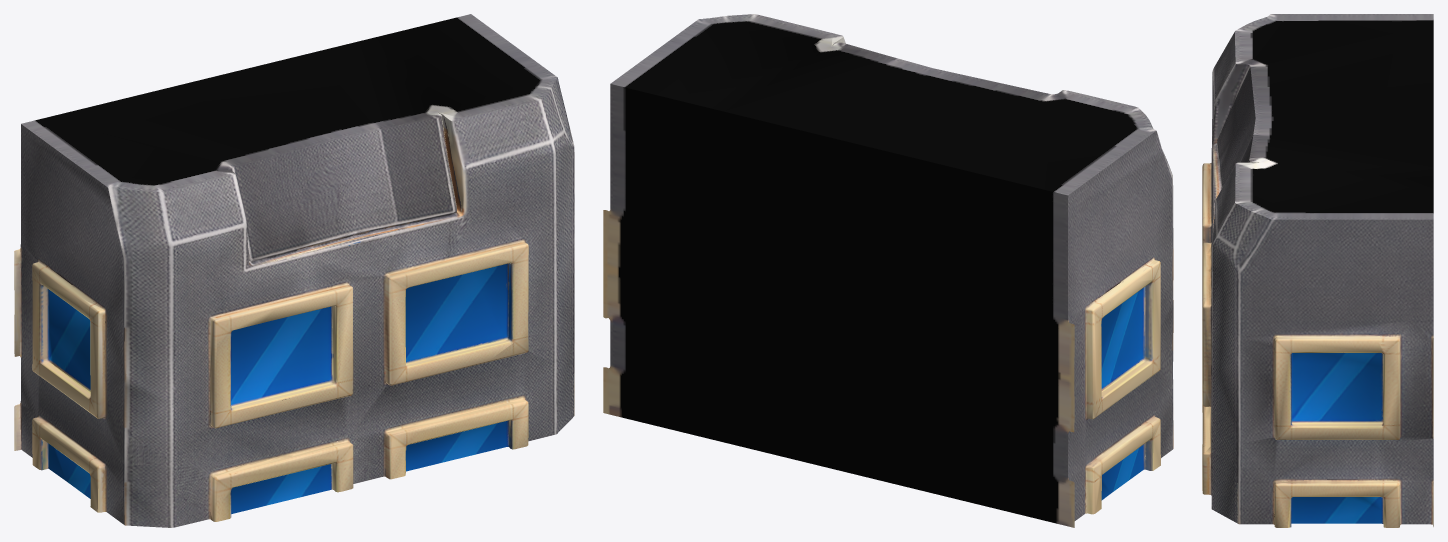
File: 5-upper-walls-front.fbx
3 renders of one model, left to right at view 1: azimuth 30°, elevation 25°; view 2: azimuth 150°, elevation 25°; view 3: azimuth 270°, elevation 25°, orthographic. The views are drawn at different scales.
Visible parts, largest first — view 1: upper-walls-front; view 2: upper-walls-front; view 3: upper-walls-front.
Part boxes in pixels (x1,y1,x2,y2): upper-walls-front: [14, 14, 574, 527]; upper-walls-front: [603, 14, 1173, 527]; upper-walls-front: [1202, 14, 1433, 527].
Bounding box in the file's own units: 6071 × 4056 × 2792.
Materials: 1 (1 with a texture image).
